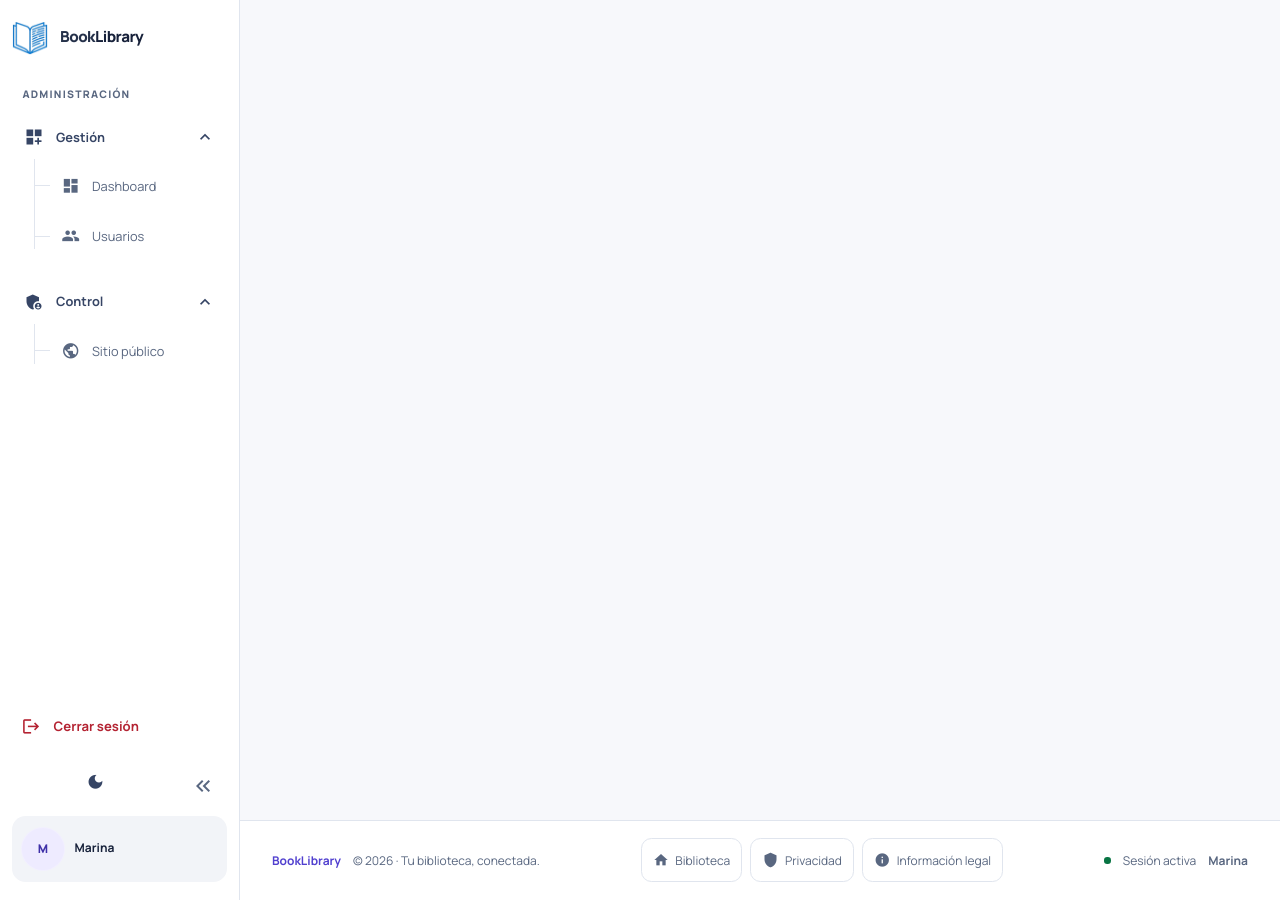
Test case: WorkspaceShellComponent › collapses the desktop sidebar and remembers the preference
Click the button named "Contraer navegación": (203, 782) [179, 758, 227, 806]
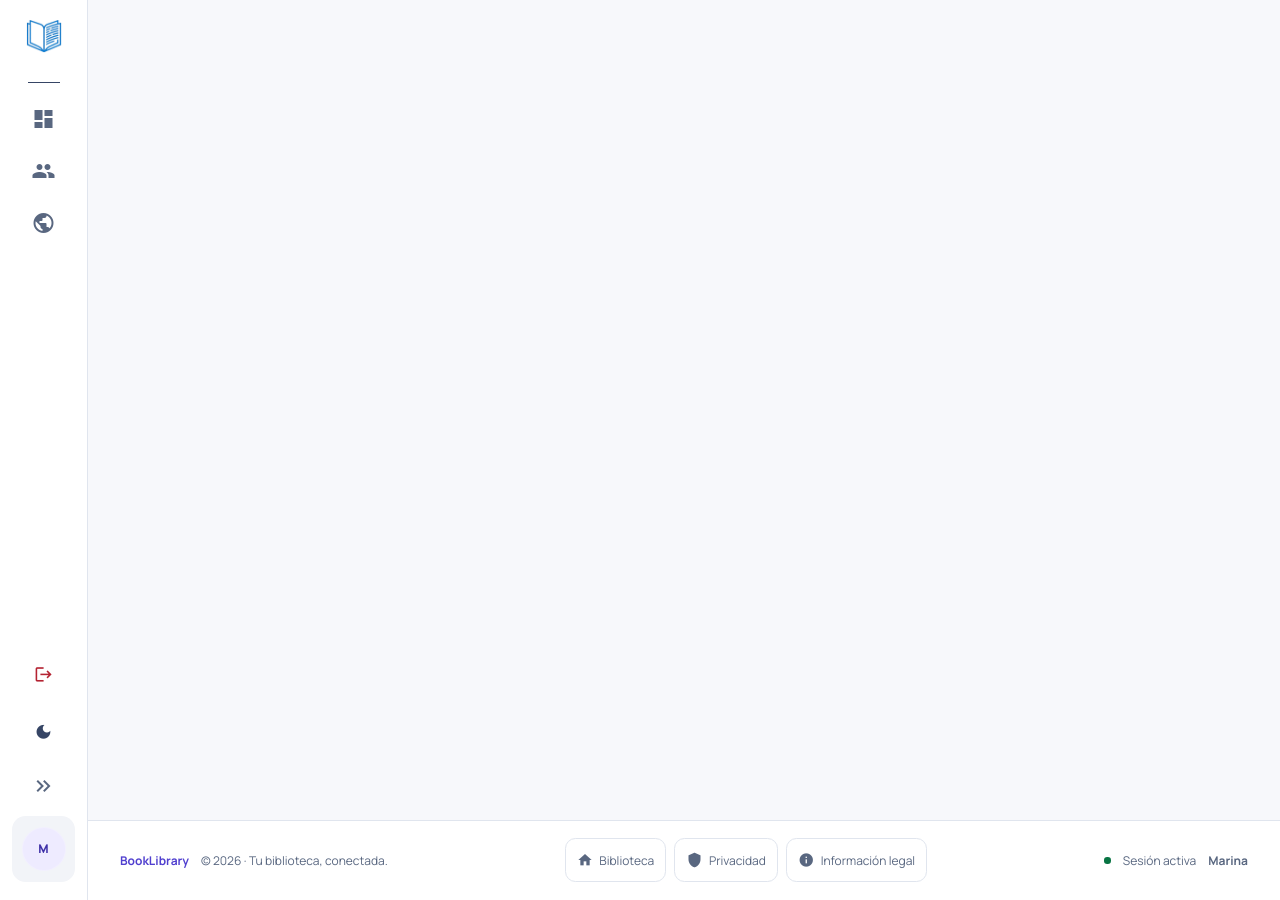
Expected: the button named "Contraer navegación" is shown, [20, 758, 68, 806]
Expected: the element with class "brand__name" is gone
